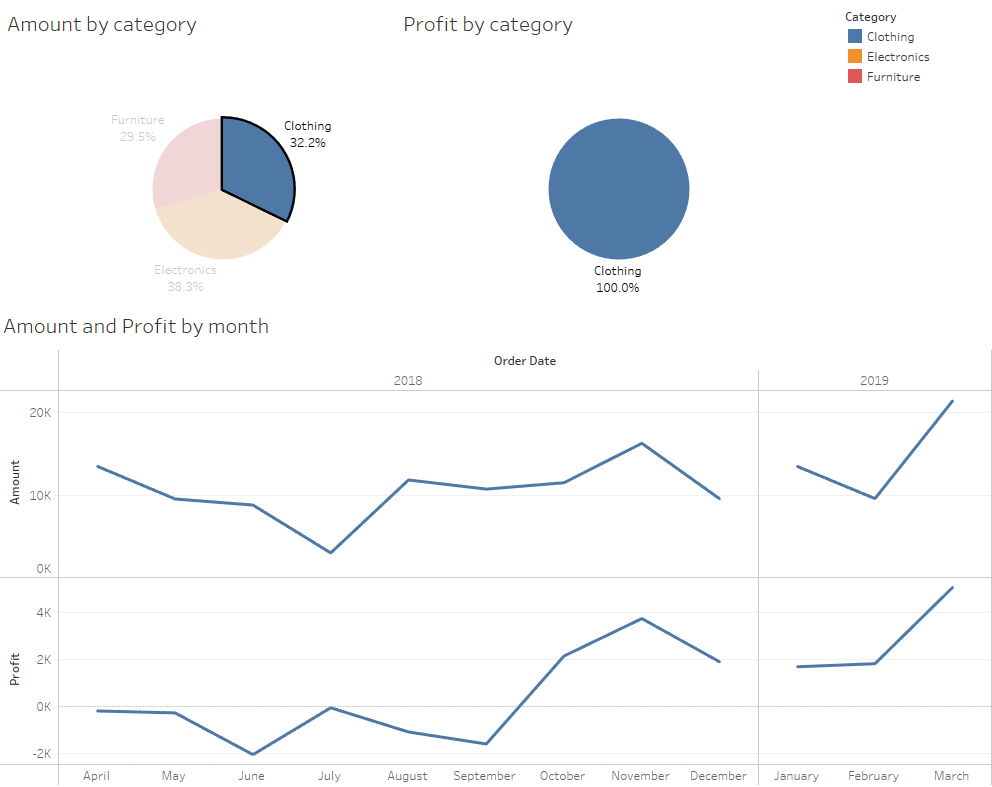

What the dashboard file says about the page in this screenshot:
{"tool":"tableau","page":{"name":"Dashboard 1","canvas":[1000,800],"ordinal":0},"visuals":[{"type":"worksheet","title":"Sheet 1","mark":"Pie","box":[6,14,440,325]},{"type":"worksheet","title":"Sheet 2","mark":"Pie","box":[402,14,440,325]},{"type":"legend","title":"Sheet 1","param":"[federated.0m88nqi1w2g4np1cgb4lk1v1m7ds].[none:Category:nk]","box":[848,17,140,78]},{"type":"worksheet","title":"Sheet 3","mark":"Automatic","rows":["Amount","Profit"],"cols":["Order Date","Order Date"],"box":[2,316,993,479]}]}

Visuals, with their boxes in screenshot pixels (x1, y1, x2, y2), scaled from the page's 1000x800 canvas onto the 992x787 screenshot:
"Sheet 1" worksheet (Pie marks): select_region(6, 14, 442, 333)
"Sheet 2" worksheet (Pie marks): select_region(399, 14, 835, 333)
"Sheet 1" legend: select_region(841, 17, 980, 93)
"Sheet 3" worksheet: select_region(2, 311, 987, 782)
